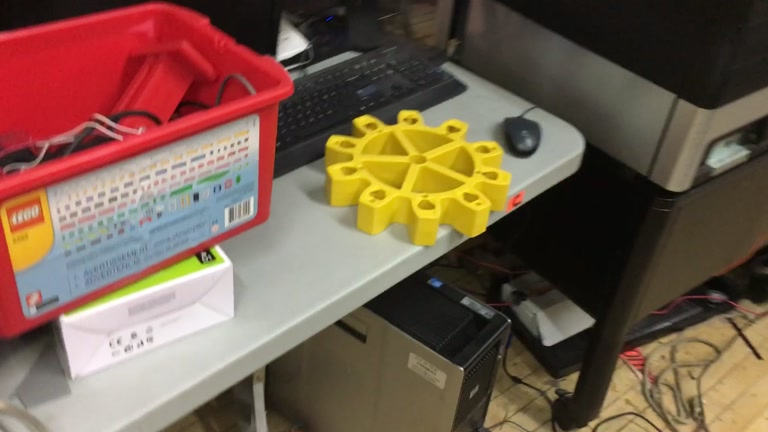gear: (324, 110, 513, 248)
